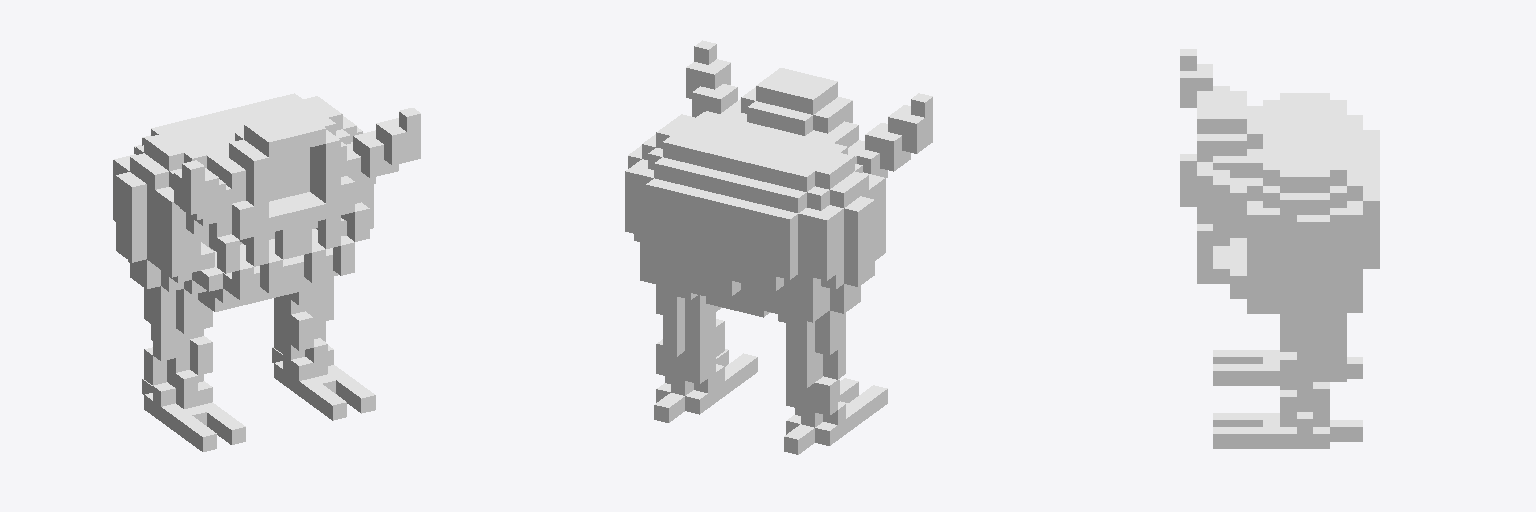
Rendered from Demon1obj.obj.
The picture shows the model from 3 angles: view 1: azimuth 30°, elevation 25°; view 2: azimuth 150°, elevation 25°; view 3: azimuth 270°, elevation 25°; orthographic projection.
Parts seen in each view (by area): view 1: object 1; view 2: object 1; view 3: object 1.
Part boxes in pixels (left/top/right/bottom): object 1: left=113, top=93, right=420, bottom=451; object 1: left=625, top=40, right=932, bottom=454; object 1: left=1180, top=49, right=1379, bottom=448.
Bounding box in the file's own units: 1.6 × 2 × 1.2.